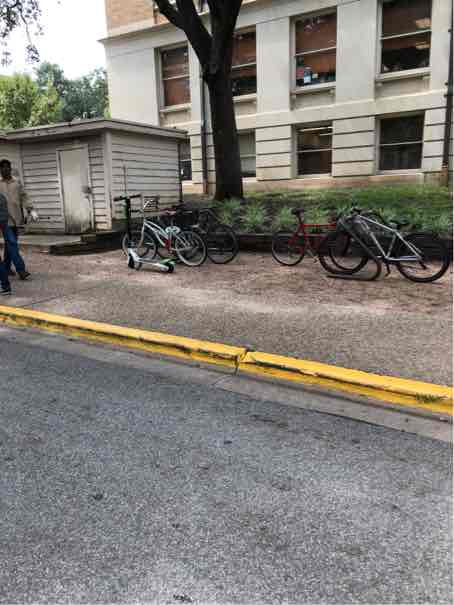scooter: (107, 189, 178, 276)
